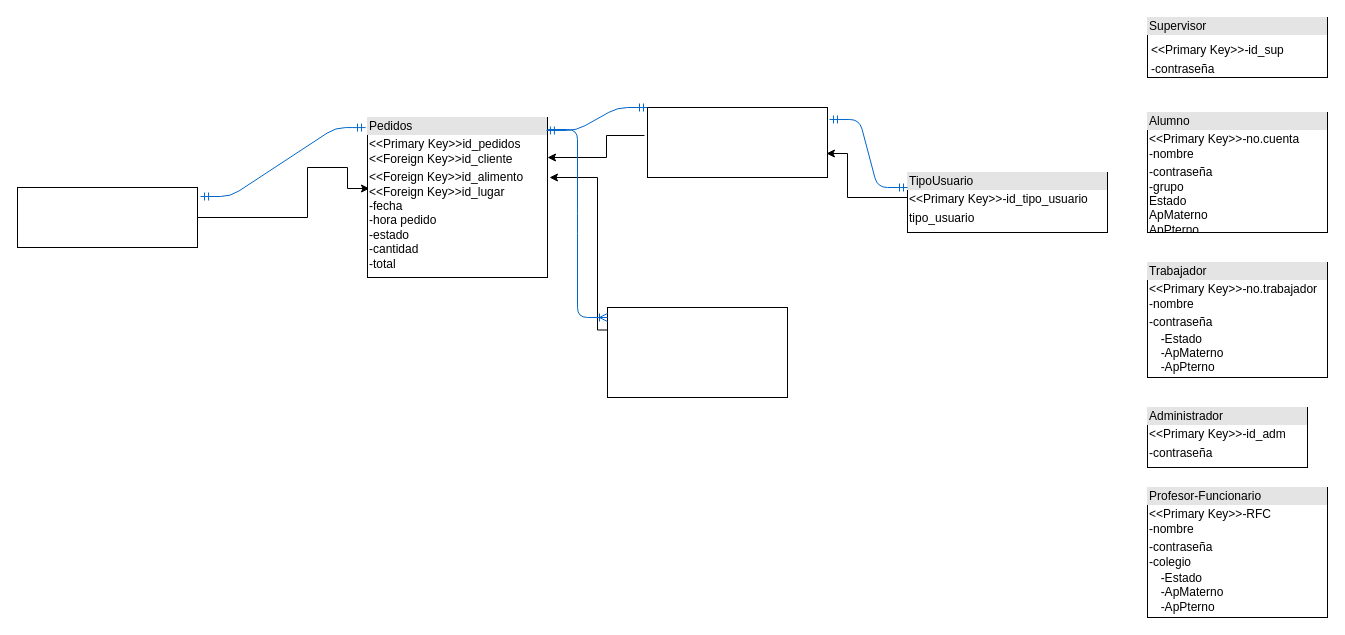
Some shapes in this 1345 by 635 pixel diagram are drawn without their labels. Here are the shapes that lost their labels. From the top down, the centre of each, then its label:
(737,142): Cliente <<Primary Key>>-id_cliente <<Foreign Key>>-id_tipo_usuario -usuario
(107,217): Lugar de entrega <<Primary Key>>-id_lugar -nombre
(697,352): Alimento <<Primary Key>>-id_alimento -nombre -disponibilidad -costo
